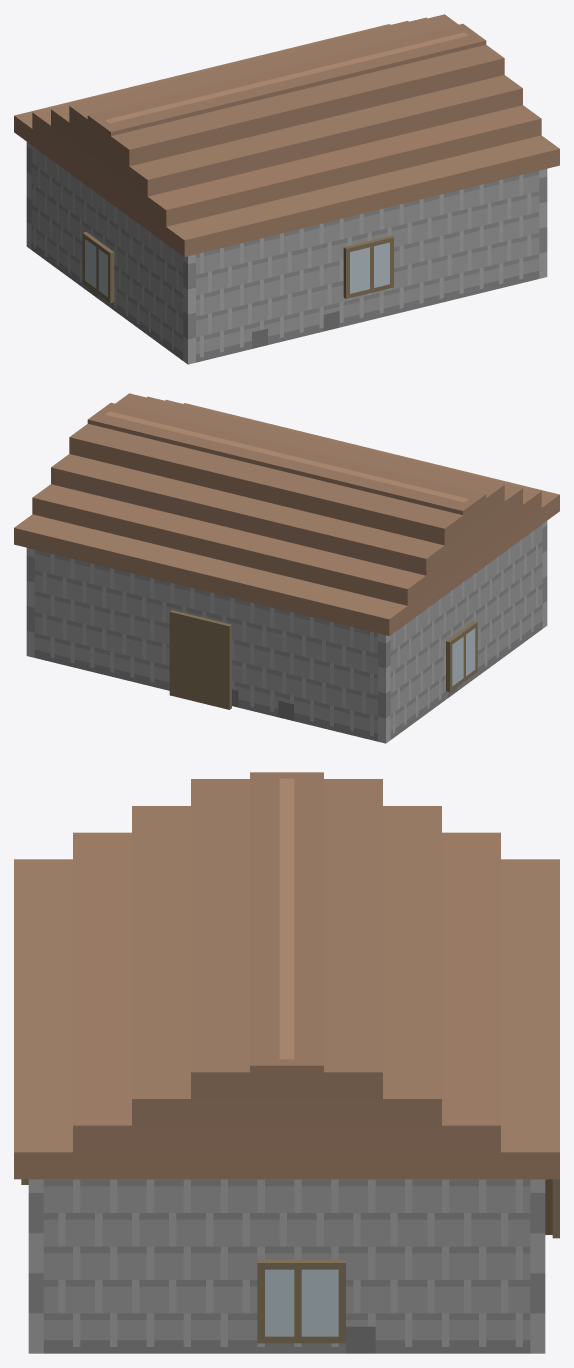
The model's file is forja_aleaciones_02.glb.
The picture shows the model from 3 angles, top to bottom: view 1: azimuth 30°, elevation 25°; view 2: azimuth 150°, elevation 25°; view 3: azimuth 270°, elevation 25°; orthographic projection. The views are drawn at different scales.
Visible parts, largest first — view 1: forja_aleaciones_02; view 2: forja_aleaciones_02; view 3: forja_aleaciones_02.
Boxes of the visible parts, x1=… form: forja_aleaciones_02: x1=14, y1=14, x2=559, y2=364; forja_aleaciones_02: x1=14, y1=393, x2=559, y2=743; forja_aleaciones_02: x1=14, y1=772, x2=559, y2=1353.
Bounding box in the file's own units: 9.4 × 4.4 × 7.4.
